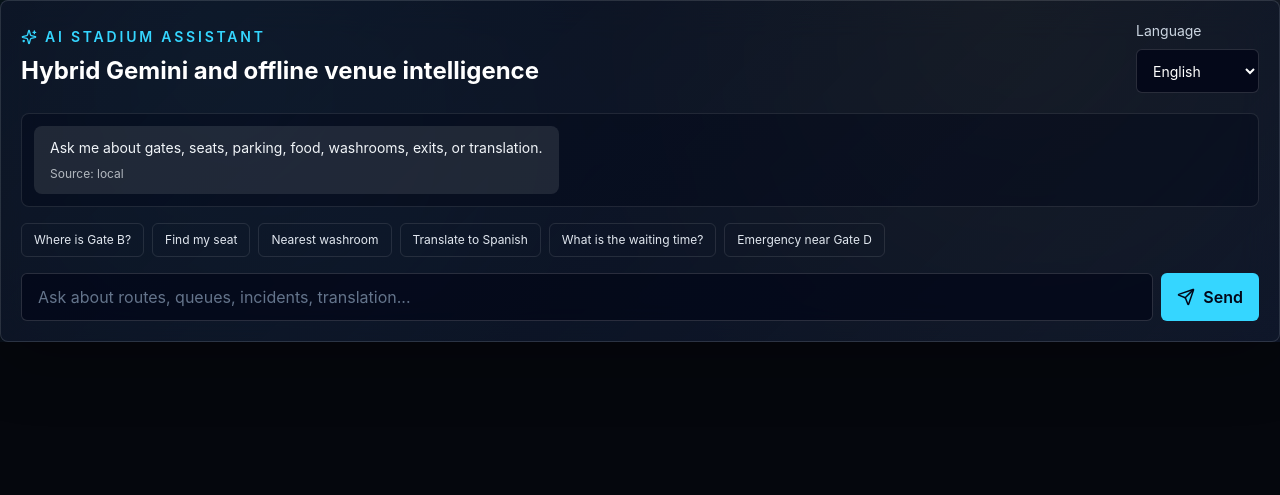
Scenario: AIAssistant › renders example prompts and sends a local answer
Click the button "Where is Gate B?" at (83, 240), box [21,223,144,257]
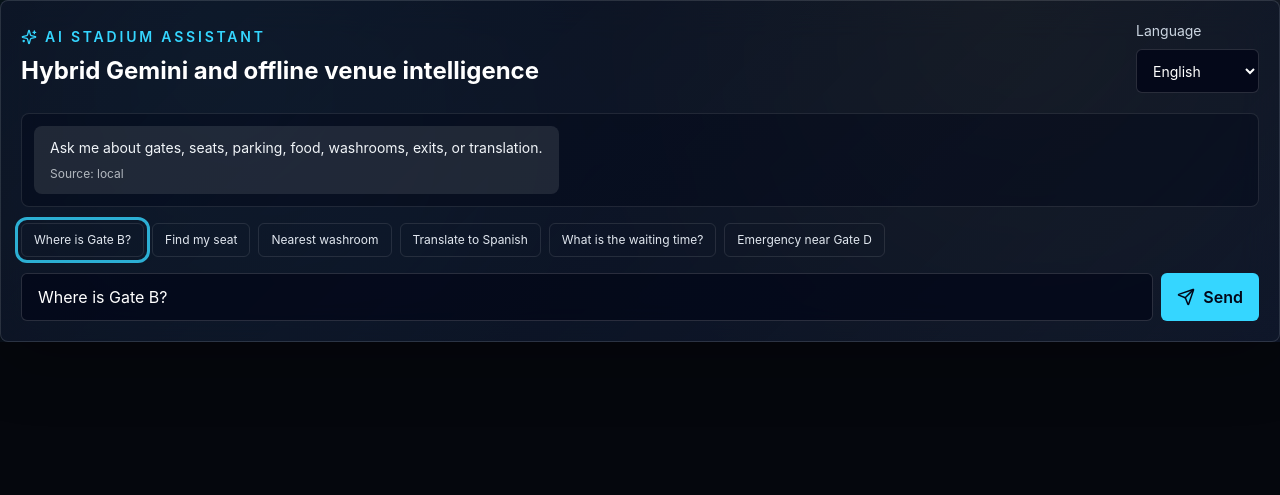
Click the button "Send" at (1210, 297), box [1161,273,1259,321]
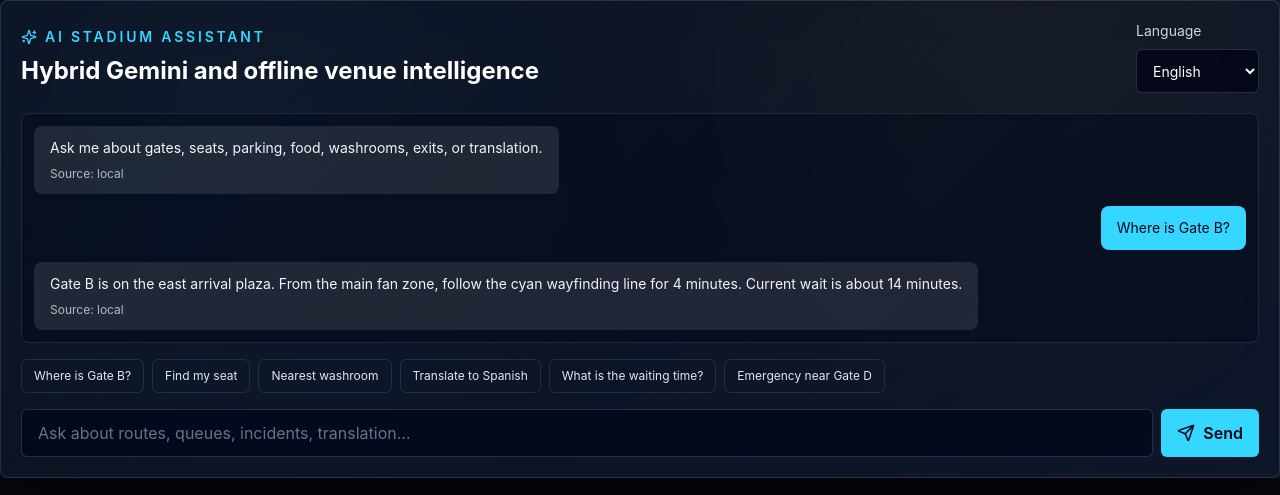
Expected: the 1st text "Source: local" is shown, [50,166,124,181]
Expected: the text "east arrival plaza" is shown, [50,275,962,292]
